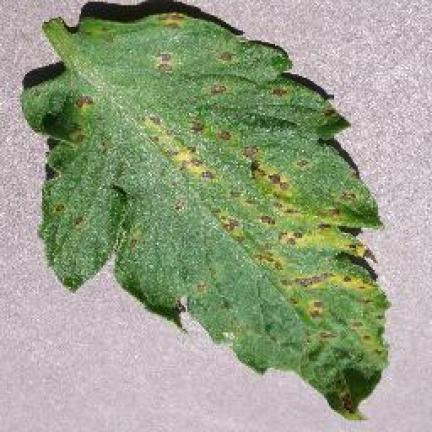disease: (22, 14, 386, 417)
leaf: (176, 299, 186, 312)
